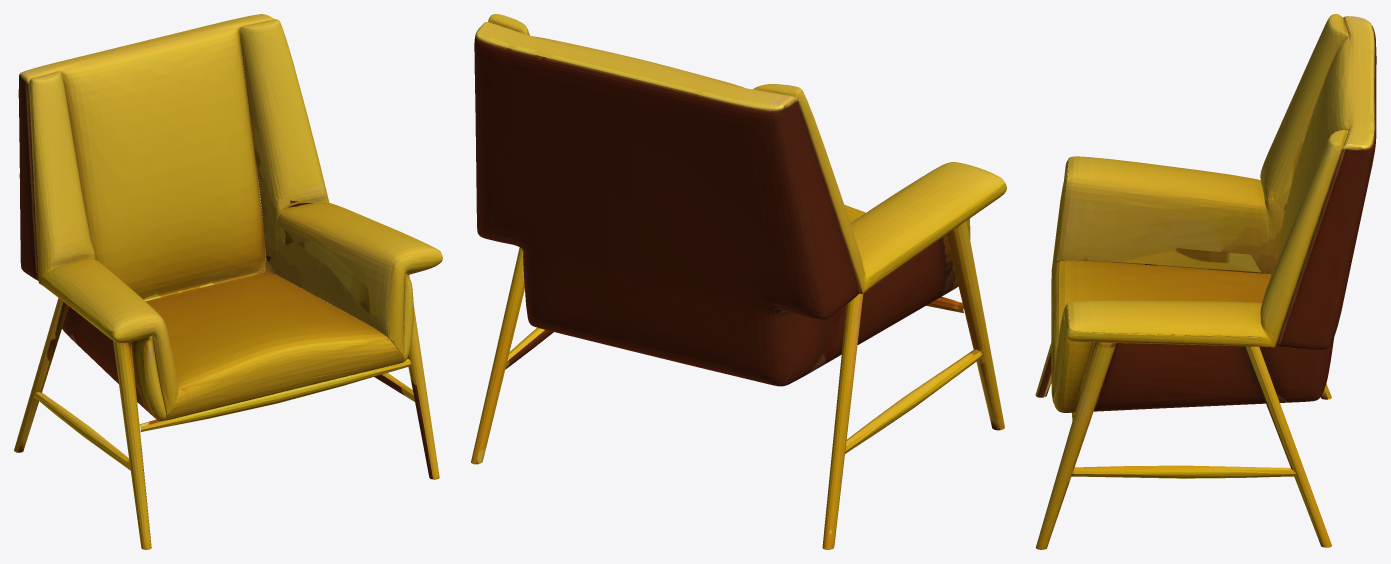
File: edited_mesh.glb
3 renders of one model, left to right at view 1: azimuth 30°, elevation 25°; view 2: azimuth 150°, elevation 25°; view 3: azimuth 270°, elevation 25°, orthographic. The views are drawn at different scales.
Parts seen in each view (by area): view 1: solid_001_wire; view 2: solid_001_wire; view 3: solid_001_wire.
Boxes of the visible parts, x1,y1,x2,y2 form: solid_001_wire: (14, 14, 442, 549); solid_001_wire: (471, 14, 1006, 549); solid_001_wire: (1035, 14, 1376, 549).
Bounding box in the file's own units: 1.29 × 1.36 × 1.06.
1 material, 1 textured.
